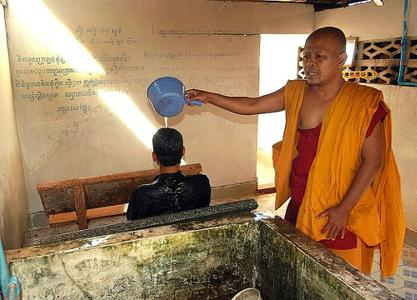person: (184, 28, 397, 278)
